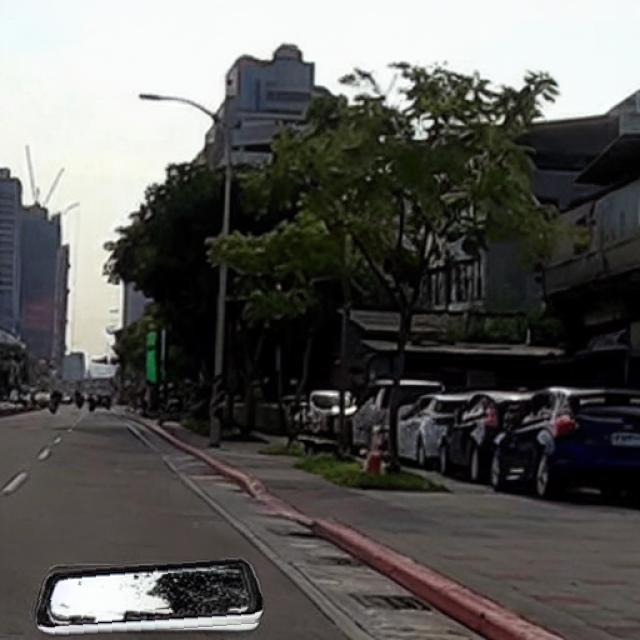puddle: (31, 559, 264, 636)
